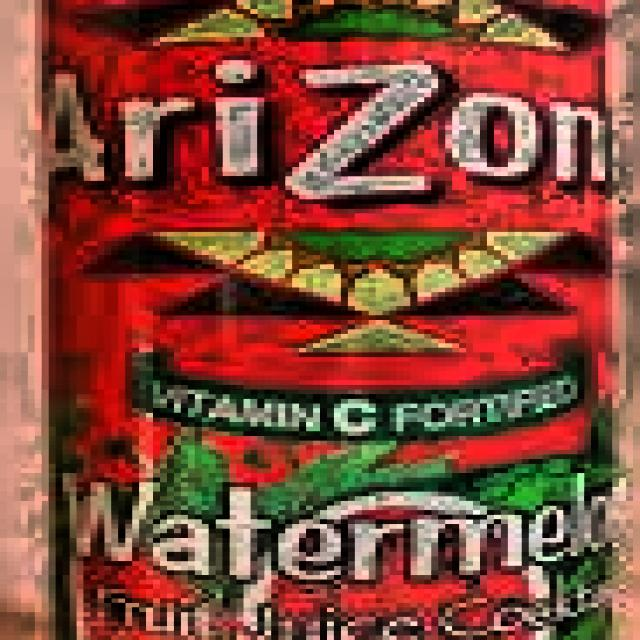metal: (21, 0, 626, 640)
